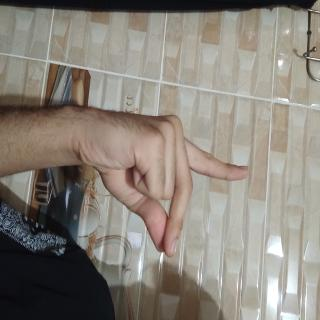TAA: (73, 90, 195, 320)
